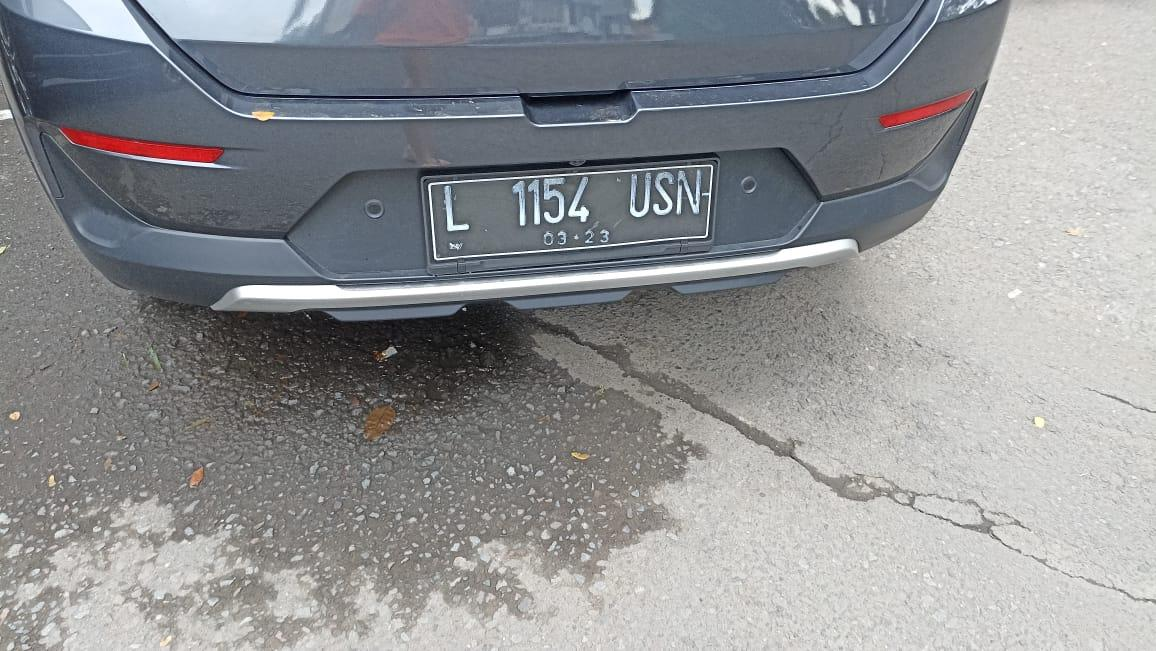plat: (422, 160, 718, 262)
